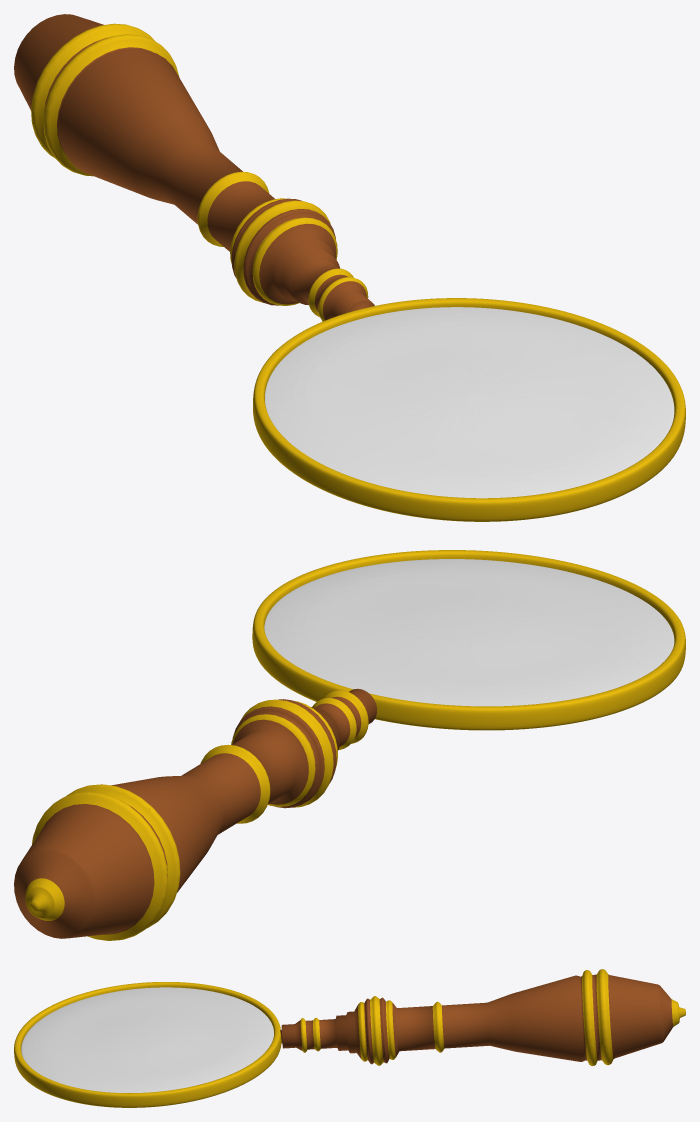
Rendered from magnifying_glass.fbx.
The picture shows the model from 3 angles, top to bottom: view 1: azimuth 30°, elevation 25°; view 2: azimuth 150°, elevation 25°; view 3: azimuth 270°, elevation 25°; orthographic projection. The views are drawn at different scales.
Parts seen in each view (by area): view 1: Circle; view 2: Circle; view 3: Circle.
Part boxes in pixels (left/top/right/bottom): Circle: left=14, top=14, right=685, bottom=521; Circle: left=14, top=550, right=685, bottom=940; Circle: left=14, top=969, right=685, bottom=1107.
Bounding box in the file's own units: 256 × 93.83 × 641.
